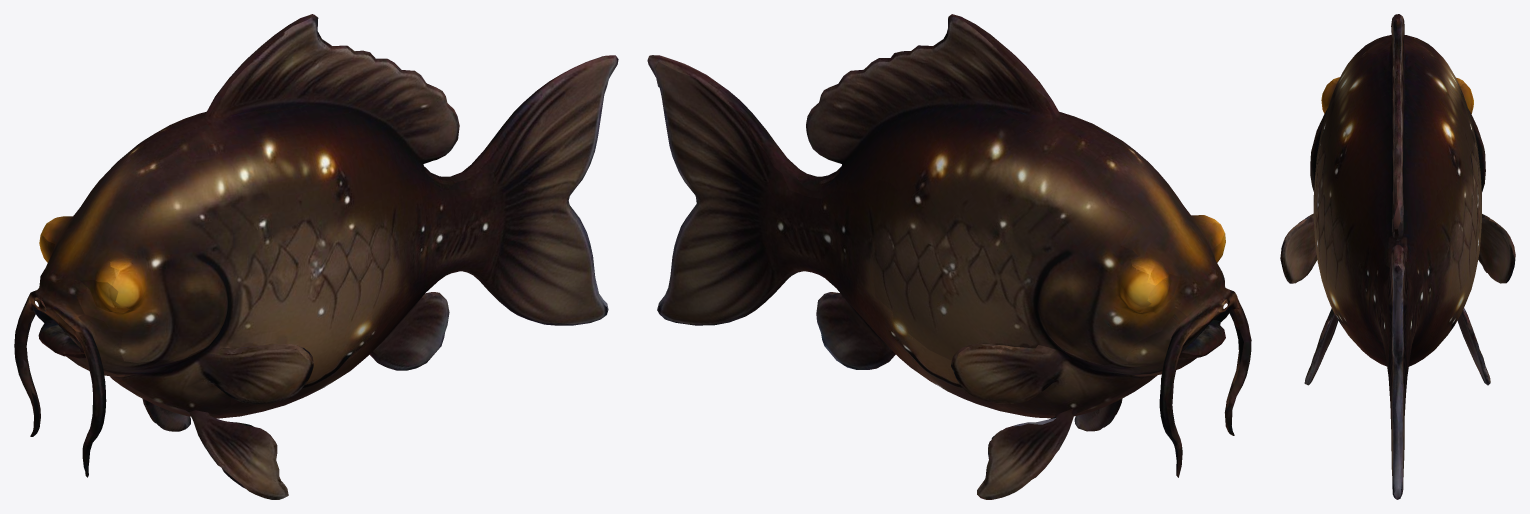
File: fish_lantern_cat.glb
3 views of the same model, side by side, from view 1: azimuth 30°, elevation 25°; view 2: azimuth 150°, elevation 25°; view 3: azimuth 270°, elevation 25° (orthographic). The views are drawn at different scales.
Visible parts, largest first — view 1: fish_lantern_cat; view 2: fish_lantern_cat; view 3: fish_lantern_cat.
Boxes of the visible parts, box(x1,y1,x2,y2) form: fish_lantern_cat: box(14, 14, 618, 499); fish_lantern_cat: box(647, 14, 1251, 499); fish_lantern_cat: box(1280, 14, 1515, 499).
Bounding box in the file's own units: 1 × 0.7095 × 0.377.
1 material, 1 textured.
